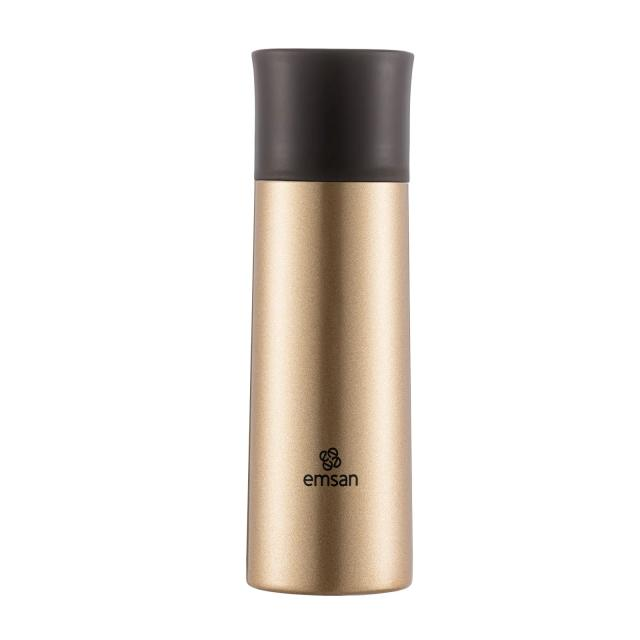Termos: (246, 48, 414, 594)
